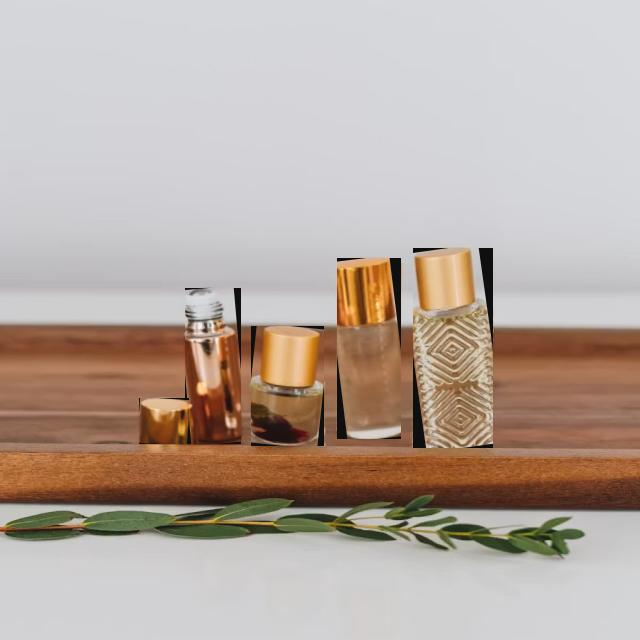Bottle: (412, 249, 491, 447), (337, 259, 400, 438), (184, 288, 240, 443), (250, 327, 323, 445), (138, 398, 187, 444)
